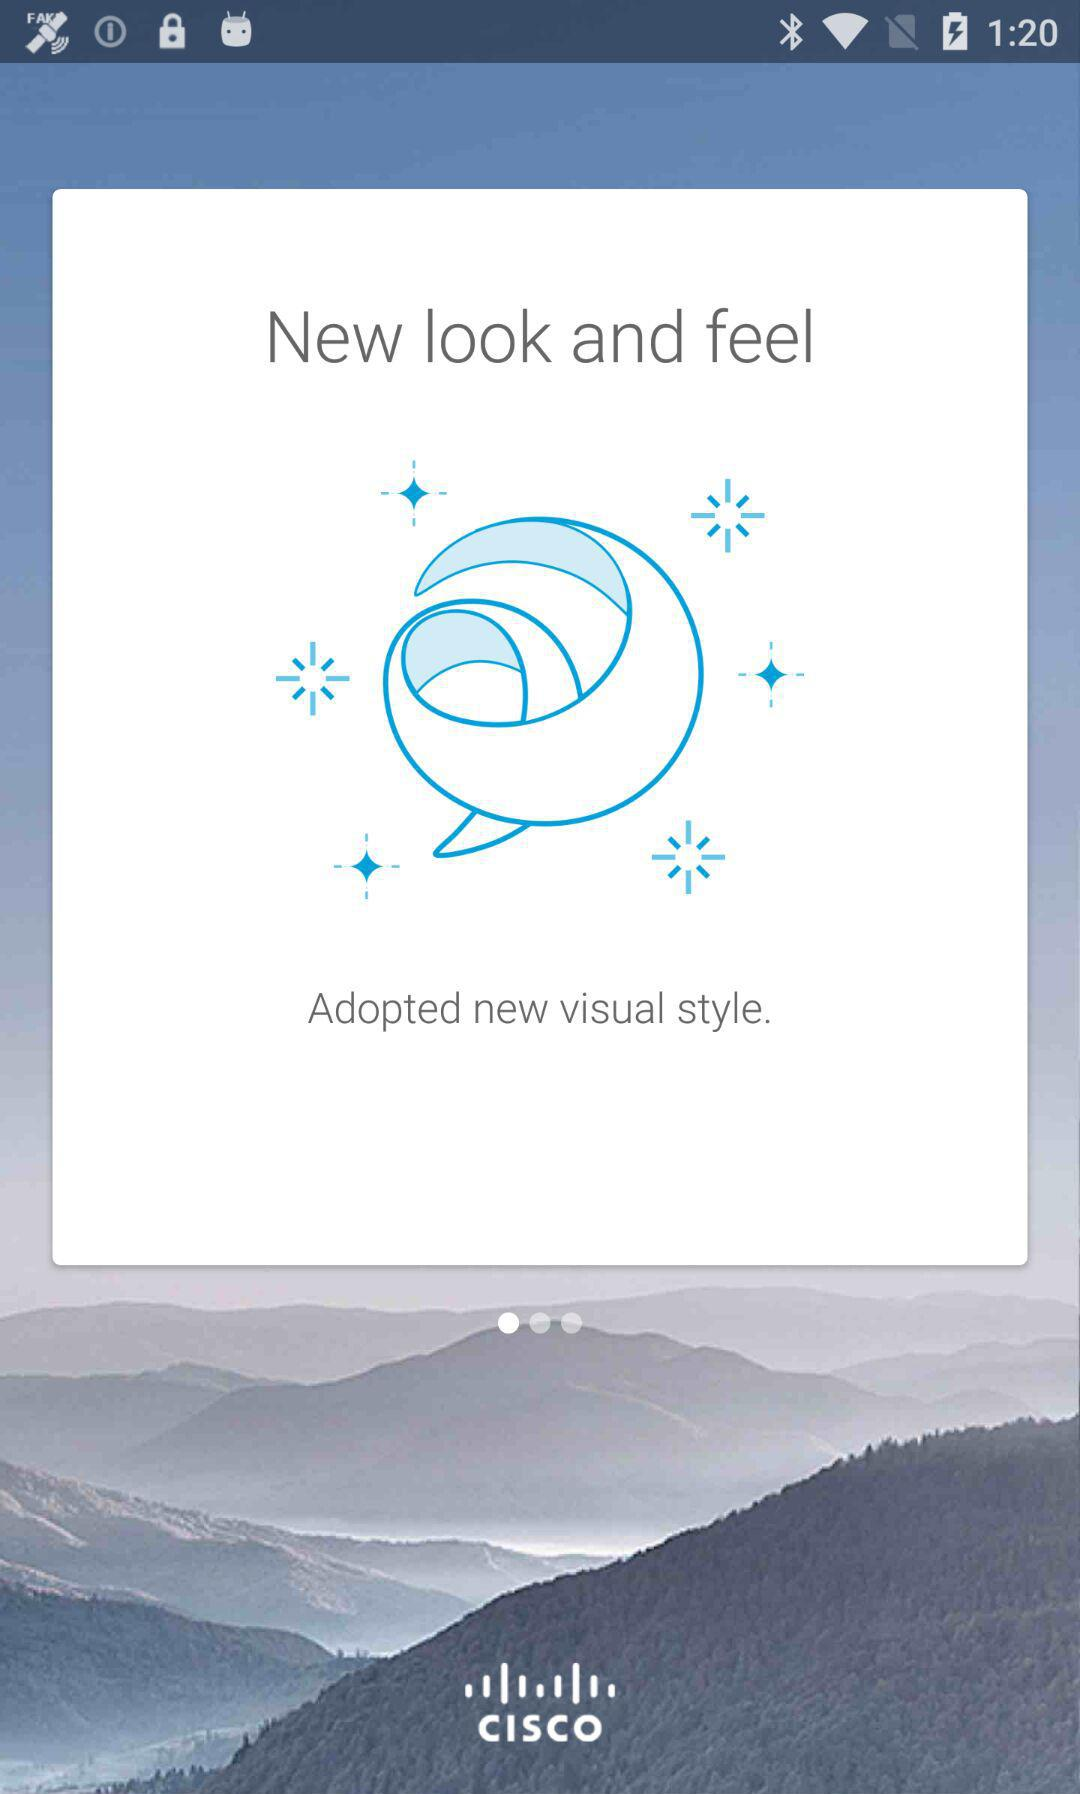BackgroundImage: (1, 64, 1080, 1794)
Card: (51, 188, 1029, 1267)
Image: (275, 459, 806, 903), (461, 1659, 616, 1744)
PageIndicator: (497, 1311, 584, 1337)
Text: (269, 308, 814, 365), (307, 991, 771, 1034)
UpperTaskBar: (1, 1, 1080, 64)
